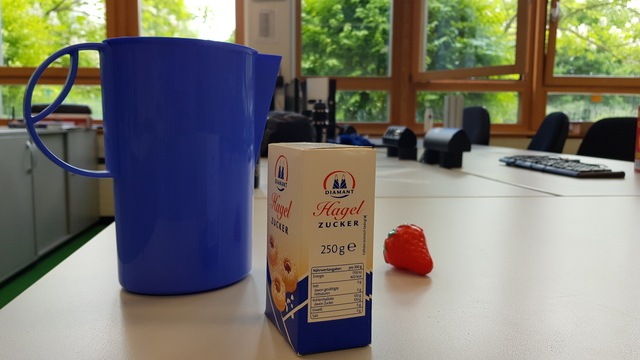004_sugar_box: (264, 142, 377, 357)
012_strawberry: (382, 223, 435, 276)
019_pitcher_base: (23, 38, 283, 295)
